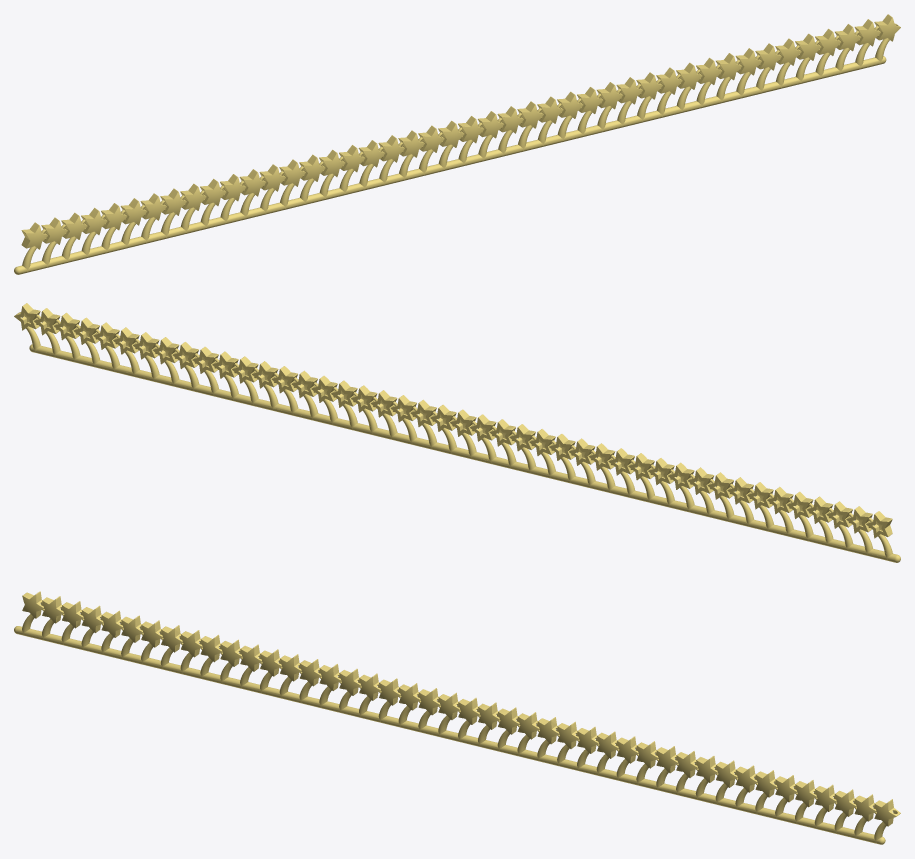
Rendered from yepisyeni_yildiz.glb.
3 renders of one model, top to bottom at view 1: azimuth 30°, elevation 25°; view 2: azimuth 150°, elevation 25°; view 3: azimuth 330°, elevation 25°, orthographic.
Parts seen in each view (by area): view 1: Renderer Node; view 2: Renderer Node; view 3: Renderer Node.
Boxes of the visible parts, bbox=[...] form: Renderer Node: bbox=[14, 14, 900, 274]; Renderer Node: bbox=[14, 303, 900, 562]; Renderer Node: bbox=[14, 591, 900, 844].
Size of the model in its own units: 184 by 9.06 by 2.08.
